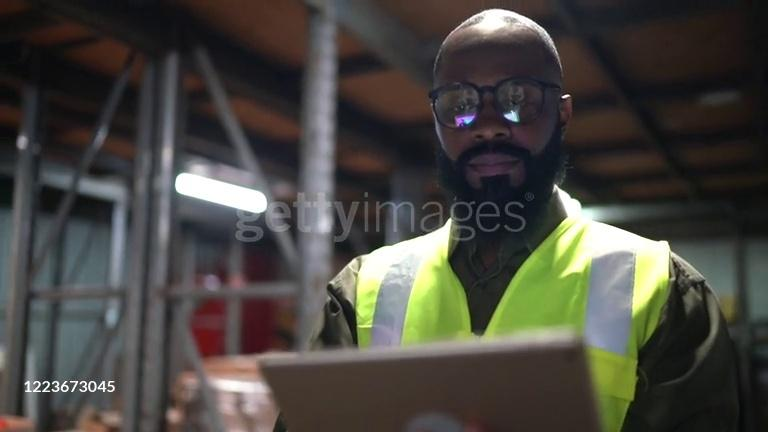person: (306, 8, 748, 432)
